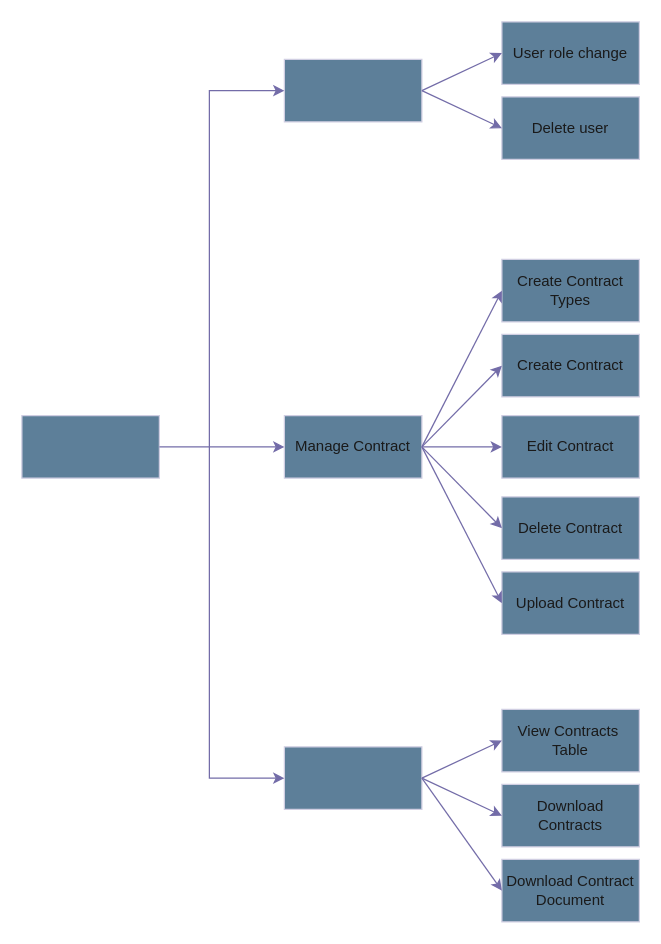
The diagram is 661 pixels wide and 944 high, and some of its shapes have lost their labels. The centre of each missing label's shape, as x and y in pixels:
Dashboard: point 352,777
NWR CR: point 90,446
Users: point 352,90
